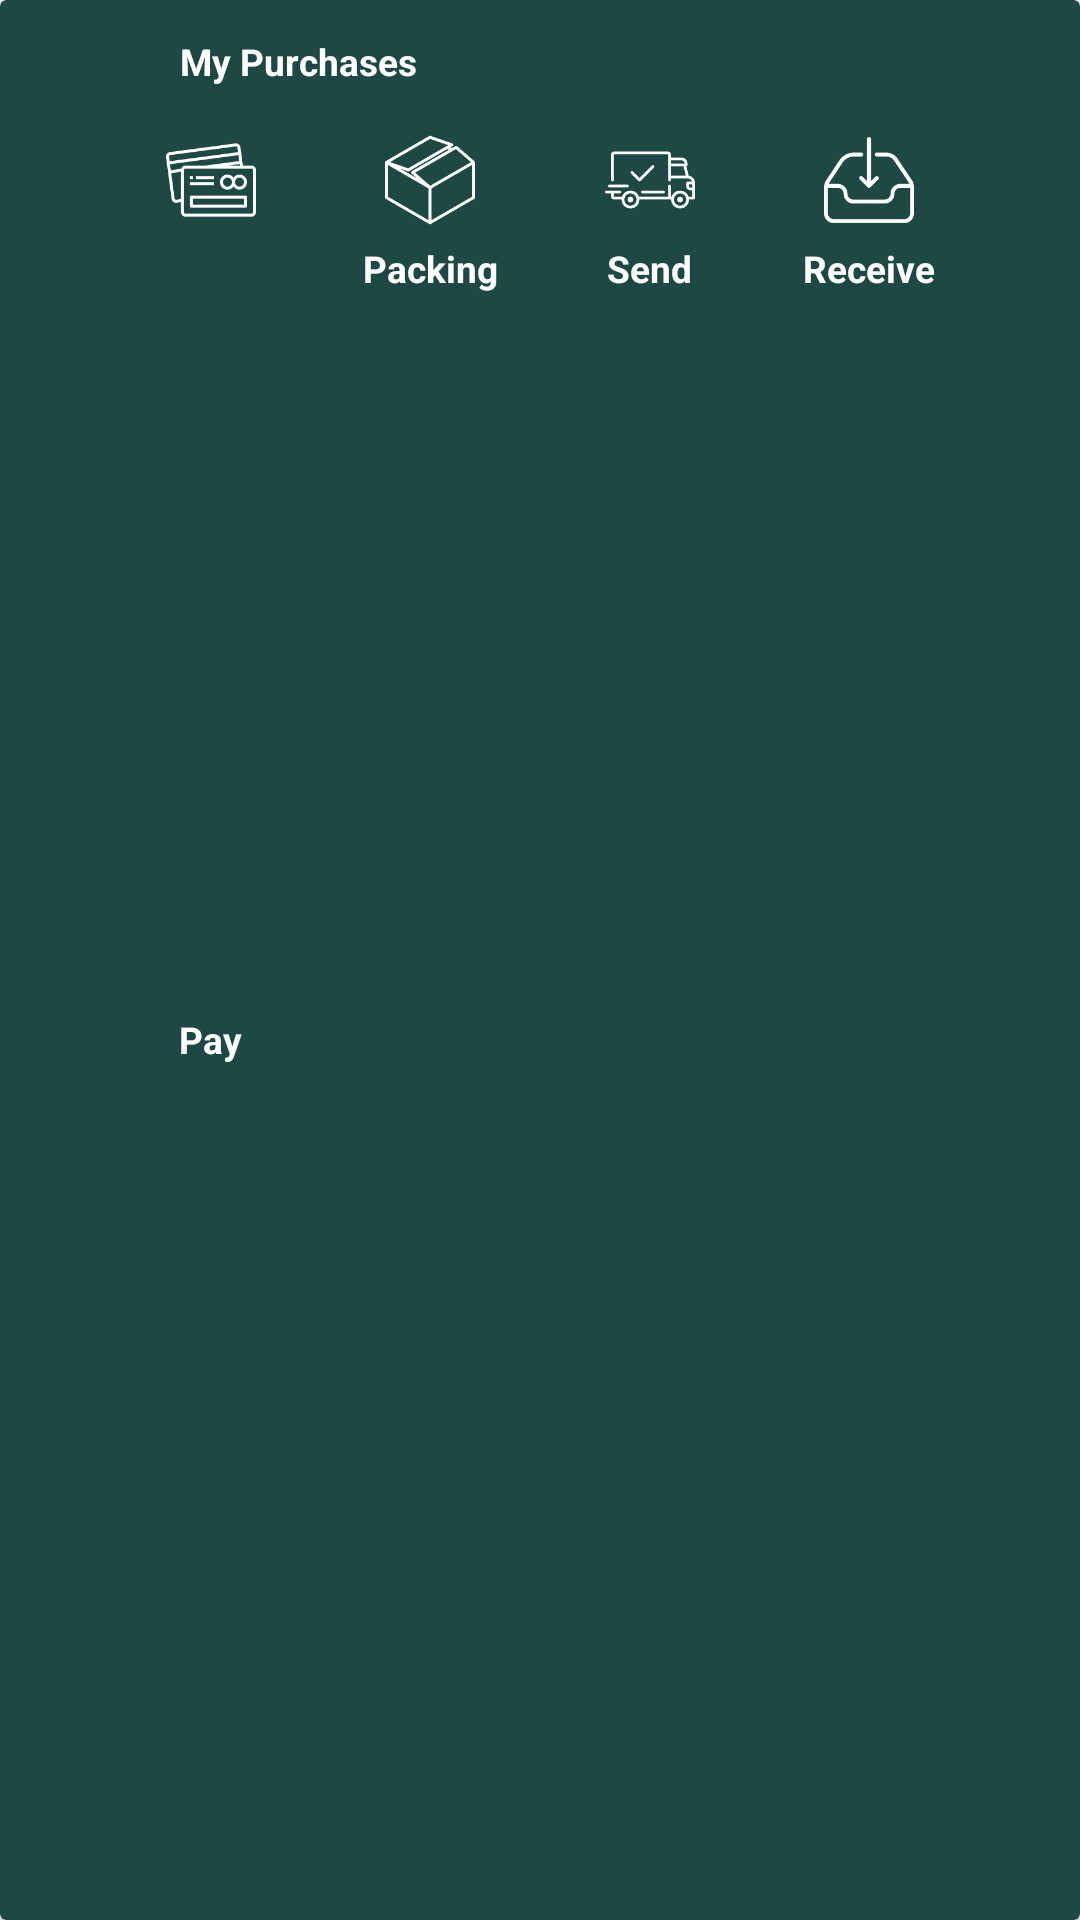

Where icons sit on this 1080 x 1920 app screen, as (x1, y1, x2, y2):
pay: (166, 143, 256, 217)
